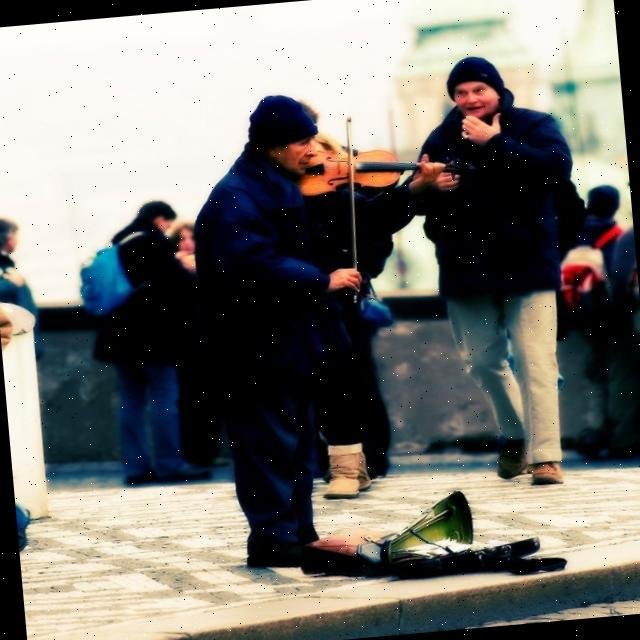violin: (288, 131, 485, 204)
